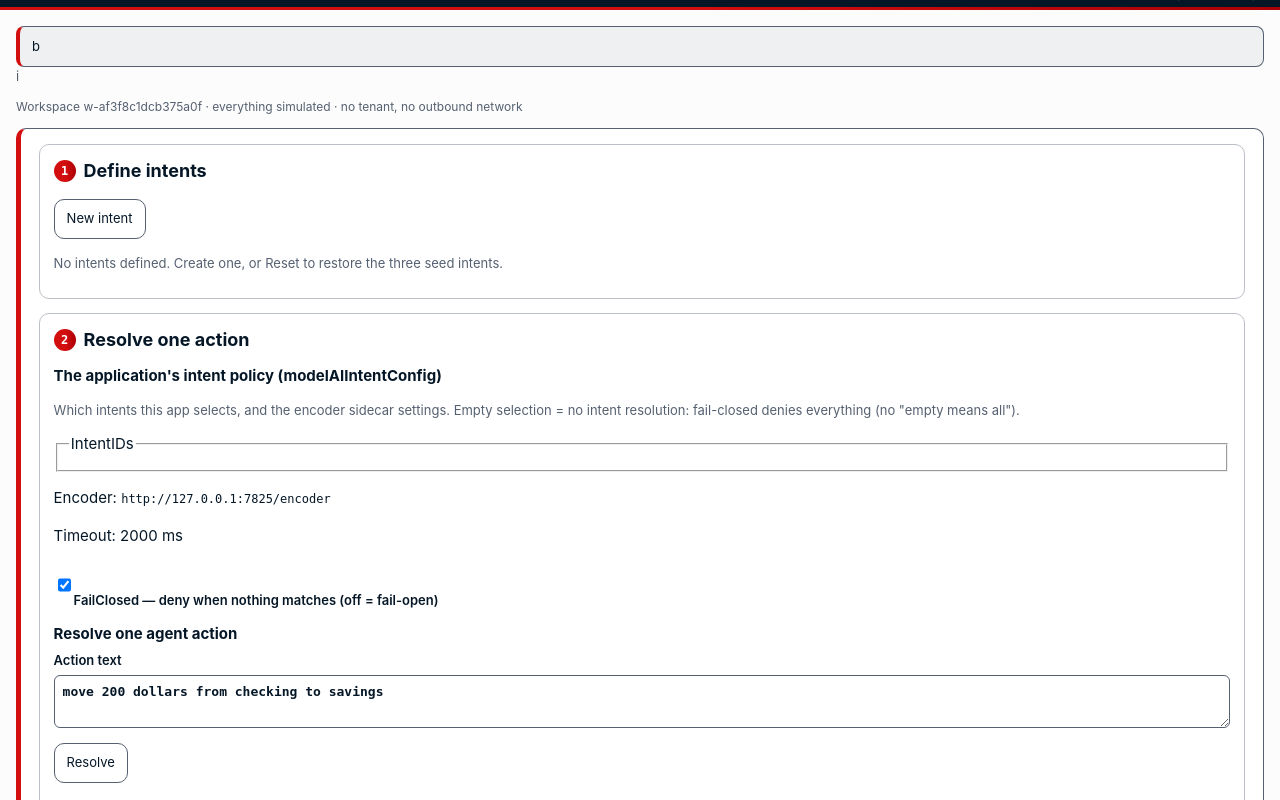
Test: real-mode resolve result › the stubbed payloads carry no bearer or gateway URL and the rendered DOM does not leak any
The width and height of the screenshot is (1280, 800).
Expected: the element with test id "banner" showing "b i" is shown, [16, 26, 1264, 86]
Step 1. Click the button with test id "resolve-run" → (91, 763), box [54, 743, 128, 783]
(page scrolled)
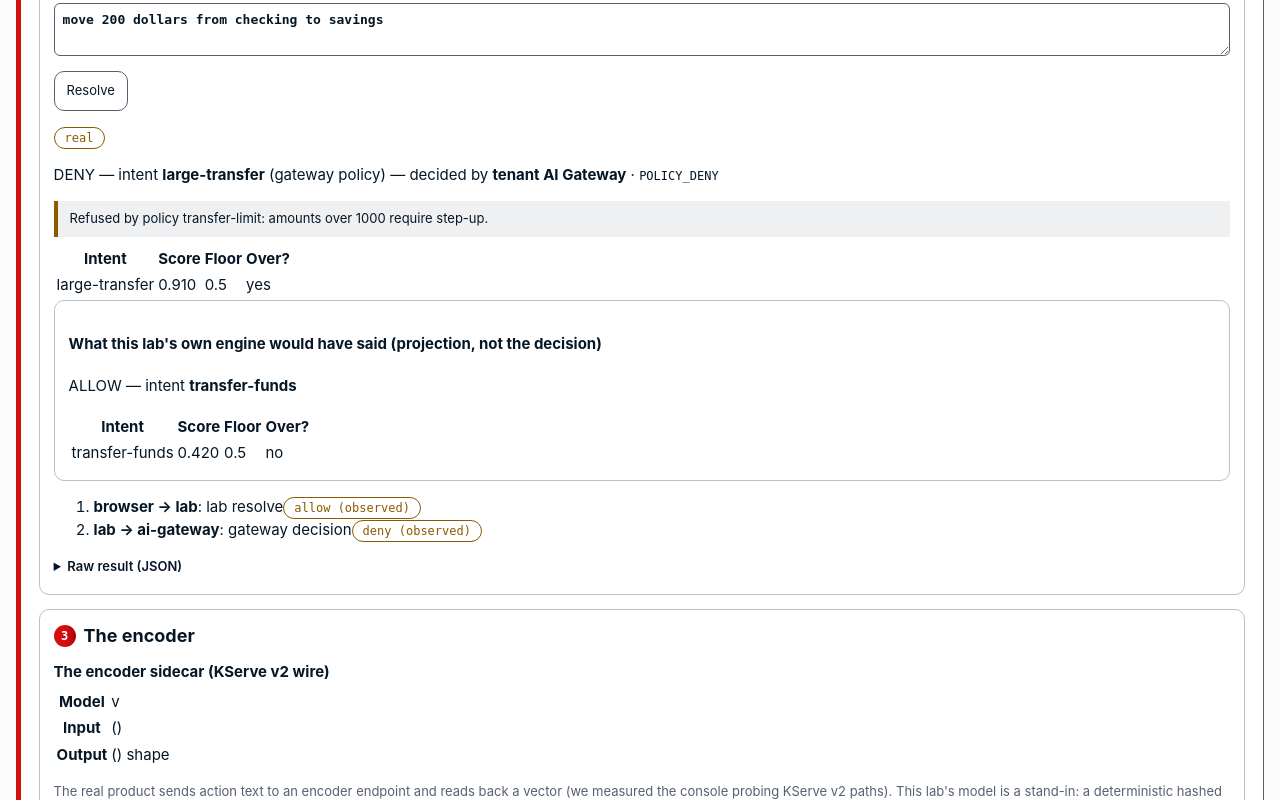
Now the element with test id "resolve-result" is shown, box [54, 126, 1230, 576]
